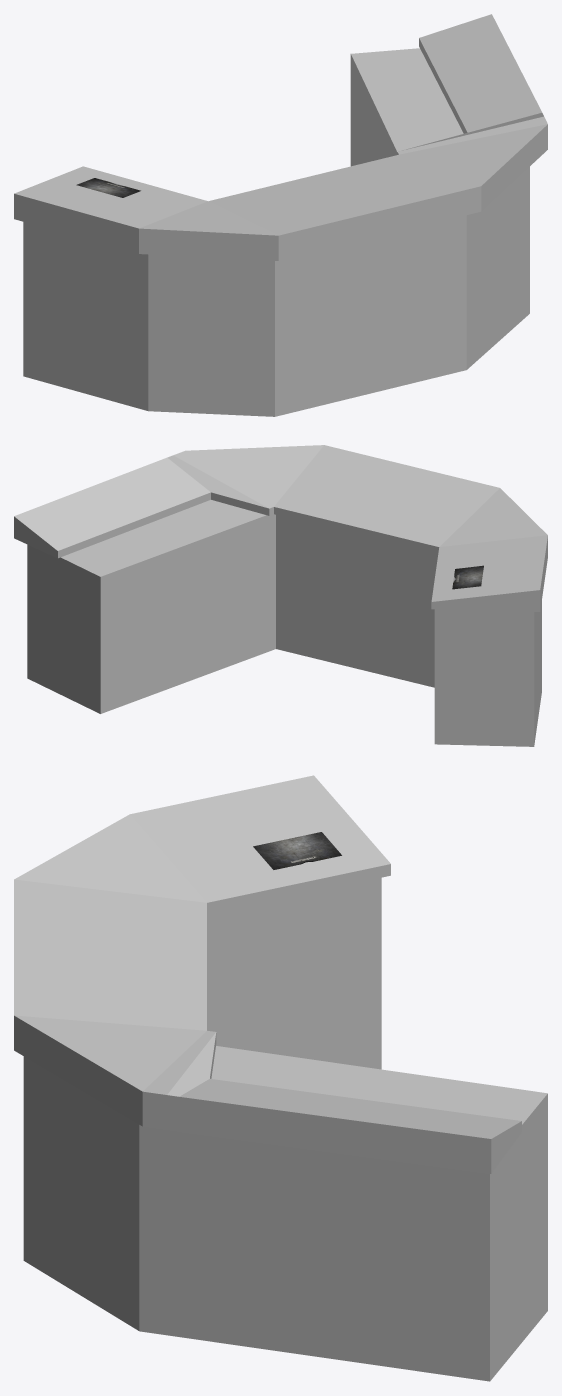
Rendered from maintainencePanel1.fbx.
3 views of the same model, one above another, from view 1: azimuth 30°, elevation 25°; view 2: azimuth 150°, elevation 25°; view 3: azimuth 270°, elevation 25° (orthographic). The views are drawn at different scales.
Parts seen in each view (by area): view 1: Cube, Cube.001; view 2: Cube, Cube.001; view 3: Cube, Cube.001.
Boxes of the visible parts, box(x1,y1,x2,y2) form: Cube: box(14, 14, 547, 416); Cube.001: box(76, 178, 140, 197); Cube: box(14, 445, 547, 746); Cube.001: box(452, 565, 483, 589); Cube: box(14, 775, 547, 1381); Cube.001: box(253, 832, 341, 869).
Bounding box in the file's own units: 6688 × 2166 × 4150.
